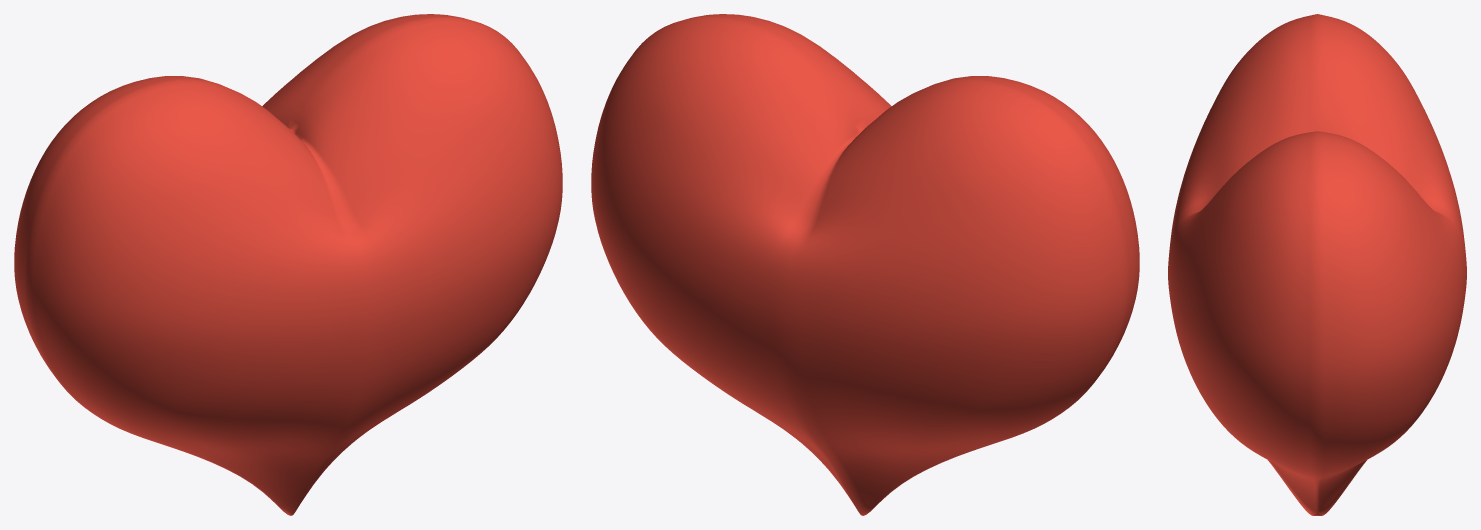
The model's file is heart-compressed-transformed.glb.
3 renders of one model, left to right at view 1: azimuth 30°, elevation 25°; view 2: azimuth 150°, elevation 25°; view 3: azimuth 270°, elevation 25°, orthographic. The views are drawn at different scales.
Visible parts, largest first — view 1: Cube.001; view 2: Cube.001; view 3: Cube.001.
Boxes of the visible parts, x1,y1,x2,y2 form: Cube.001: (14,14,562,515); Cube.001: (591,14,1139,515); Cube.001: (1168,14,1466,515).
Size of the model in its own units: 1.69 by 1.42 by 0.8964.
